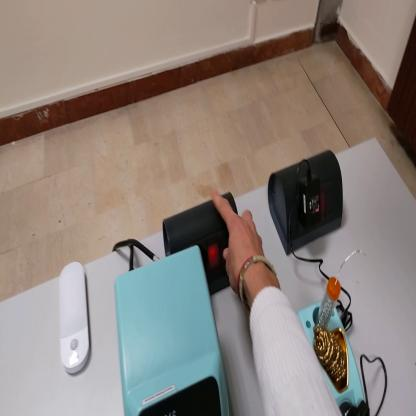hand: (210, 189, 273, 301)
socket: (267, 143, 345, 258), (165, 195, 240, 298)
welder base: (306, 267, 369, 416)
welder station: (109, 243, 232, 413)
